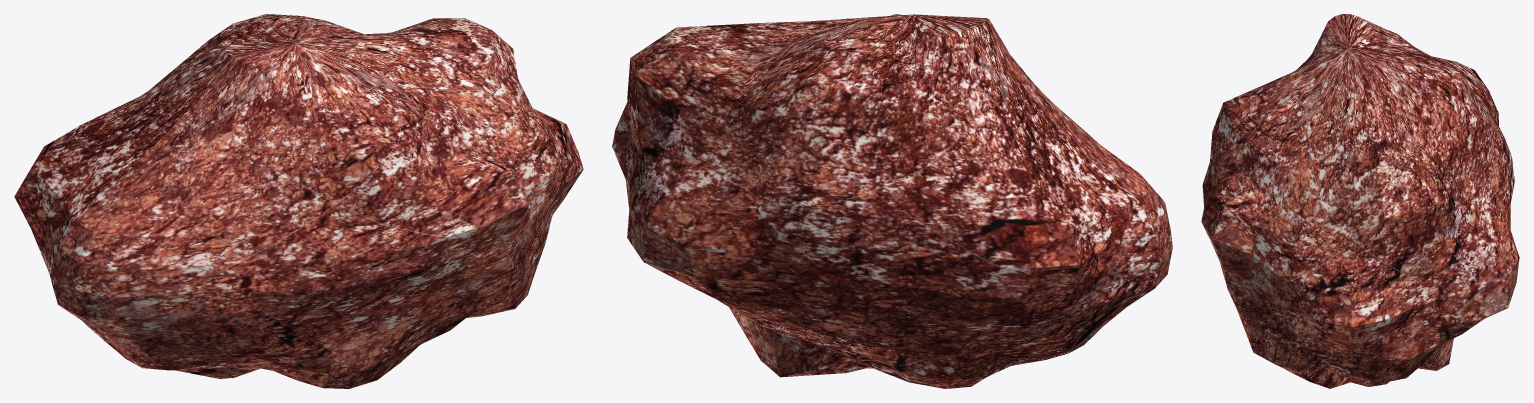
The model's file is Obstacle.fbx.
3 renders of one model, left to right at view 1: azimuth 30°, elevation 25°; view 2: azimuth 150°, elevation 25°; view 3: azimuth 270°, elevation 25°, orthographic. The views are drawn at different scales.
Parts seen in each view (by area): view 1: 球; view 2: 球; view 3: 球.
Boxes of the visible parts, x1,y1,x2,y2 form: 球: [14, 14, 583, 388]; 球: [612, 14, 1172, 388]; 球: [1201, 14, 1519, 388].
Size of the model in its own units: 394 by 243 by 236.
